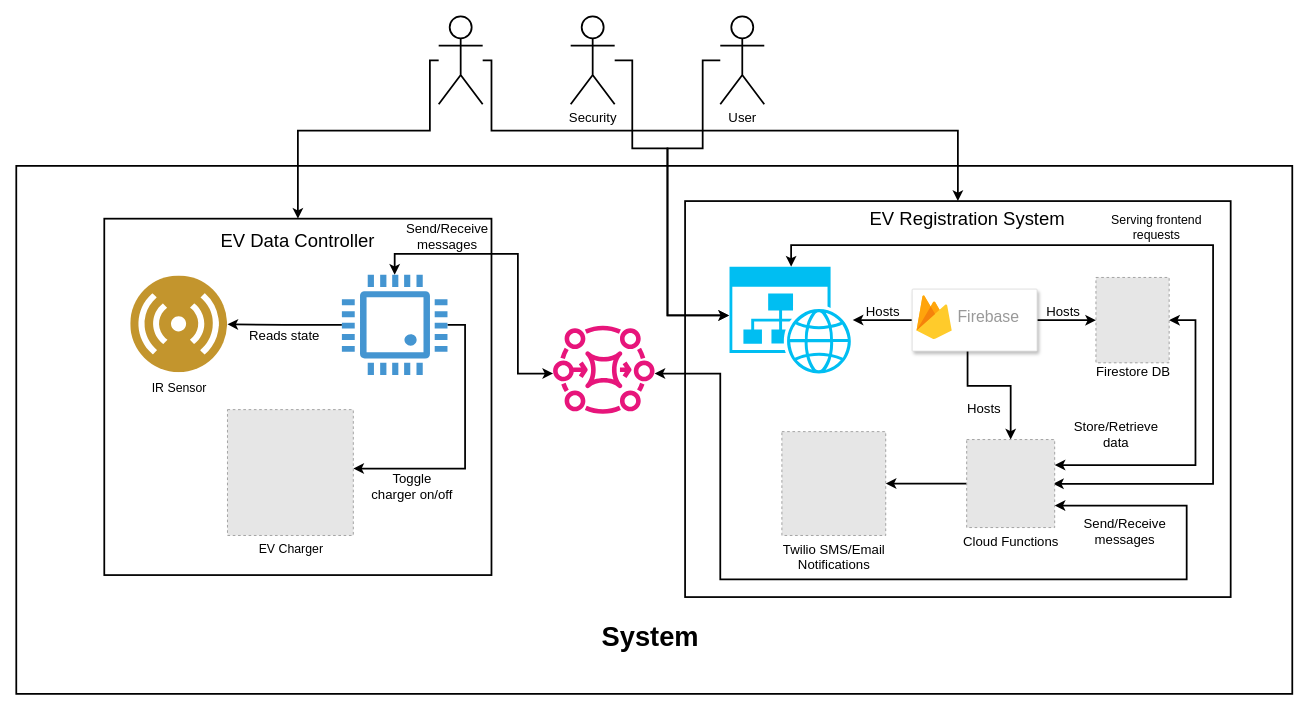
This 1308x709 diagram has some shape labels left out. Grey dashed boxes stand in for pictures. Each missing label, with the centre of its shape:
"Admin" goes at pixel 460 60.
"Data Controller" goes at pixel 394 324.
"Frontend UI (React)" goes at pixel 790 319.
"HiveMQ Broker" goes at pixel 603 369.
